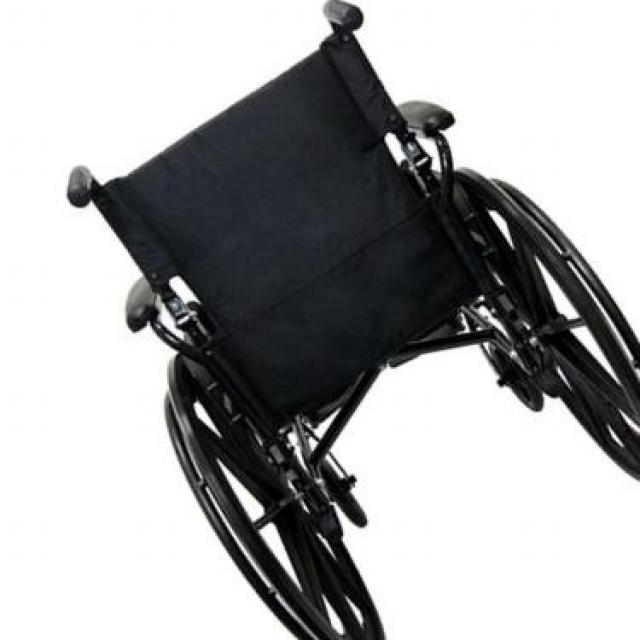wheelchair: (61, 0, 640, 640)
